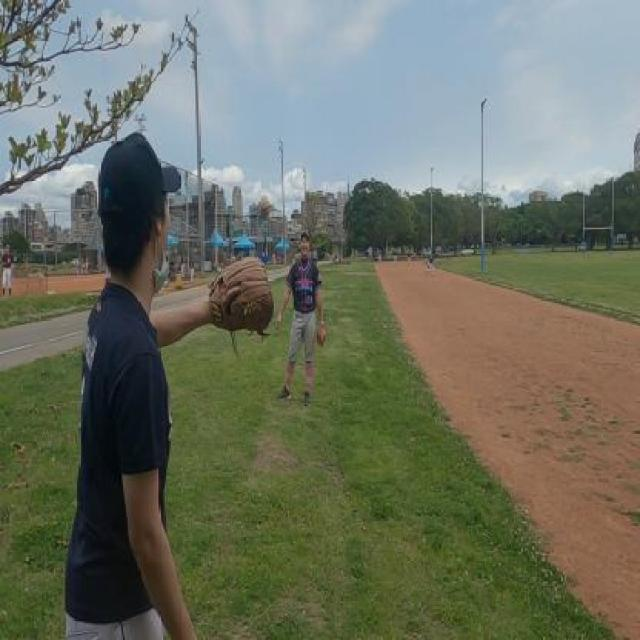baseball: (258, 195, 271, 219)
